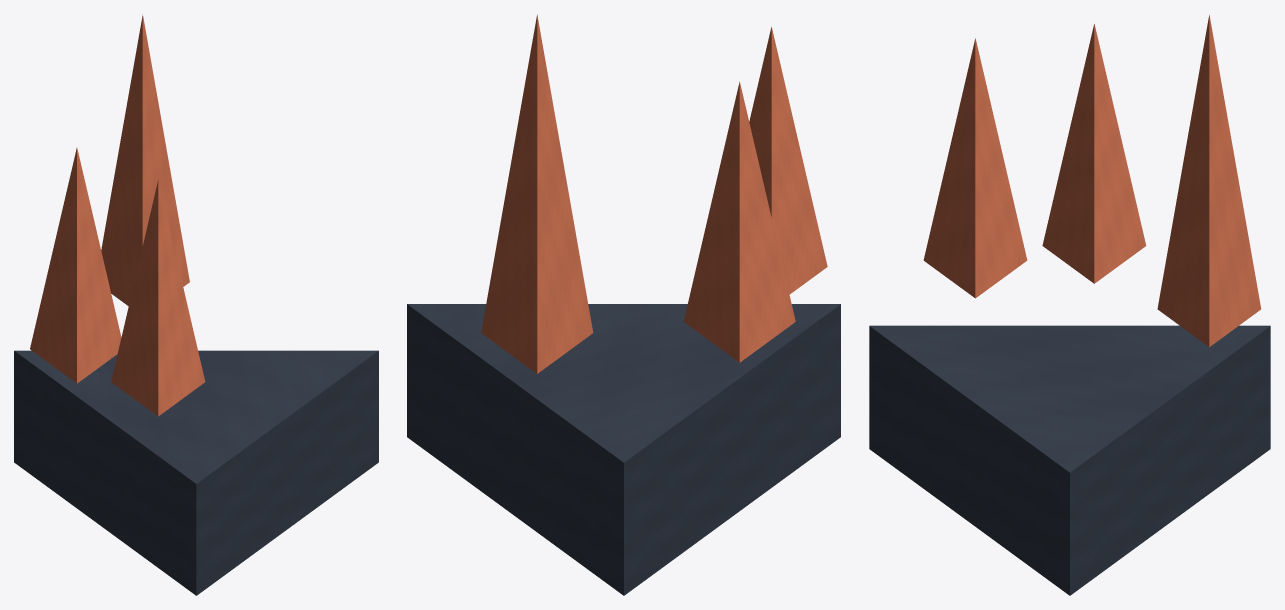
The model's file is atlas100-s021-a12.lod2.glb.
The picture shows the model from 3 angles, left to right: view 1: azimuth 30°, elevation 25°; view 2: azimuth 150°, elevation 25°; view 3: azimuth 270°, elevation 25°; orthographic projection. The views are drawn at different scales.
Parts seen in each view (by area): view 1: atlas100-s021-a12:part-000, atlas100-s021-a12:part-002, atlas100-s021-a12:part-005, atlas100-s021-a12:part-003; view 2: atlas100-s021-a12:part-000, atlas100-s021-a12:part-003, atlas100-s021-a12:part-005, atlas100-s021-a12:part-002; view 3: atlas100-s021-a12:part-000, atlas100-s021-a12:part-003, atlas100-s021-a12:part-002, atlas100-s021-a12:part-005.
Part boxes in pixels (x1,y1,x2,y2): atlas100-s021-a12:part-000: [14, 350, 378, 595]; atlas100-s021-a12:part-002: [111, 180, 205, 416]; atlas100-s021-a12:part-005: [30, 147, 121, 383]; atlas100-s021-a12:part-003: [101, 14, 189, 305]; atlas100-s021-a12:part-000: [407, 304, 840, 595]; atlas100-s021-a12:part-003: [481, 14, 593, 373]; atlas100-s021-a12:part-005: [683, 81, 795, 362]; atlas100-s021-a12:part-002: [749, 27, 827, 294]; atlas100-s021-a12:part-000: [869, 325, 1270, 595]; atlas100-s021-a12:part-003: [1157, 15, 1261, 347]; atlas100-s021-a12:part-002: [923, 38, 1027, 298]; atlas100-s021-a12:part-005: [1042, 24, 1146, 283].
Size of the model in its own units: 0.9996 by 1.35 by 1.
Materials: 2 (2 with a texture image).
